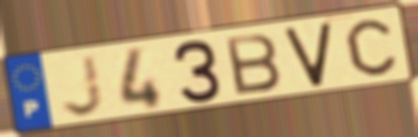3: (169, 37, 222, 106)
4: (117, 45, 166, 112)
B: (222, 30, 284, 97)
C: (343, 17, 400, 78)
J: (59, 52, 107, 119)
V: (281, 19, 334, 90)
